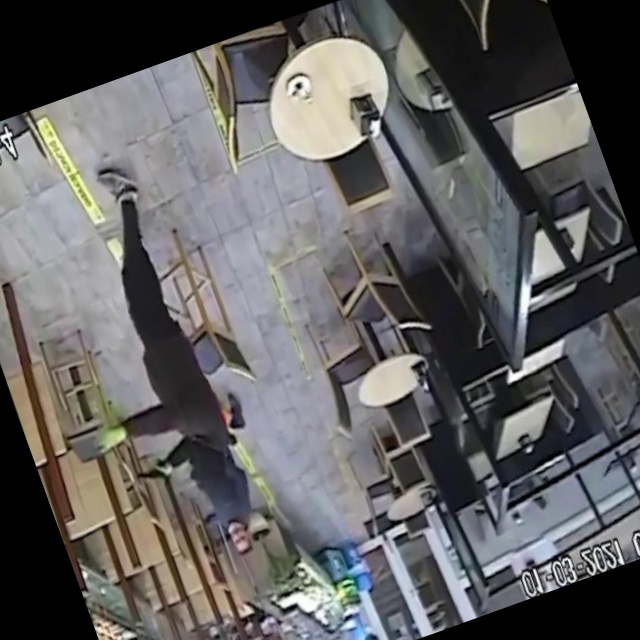gun: (120, 435, 187, 506)
